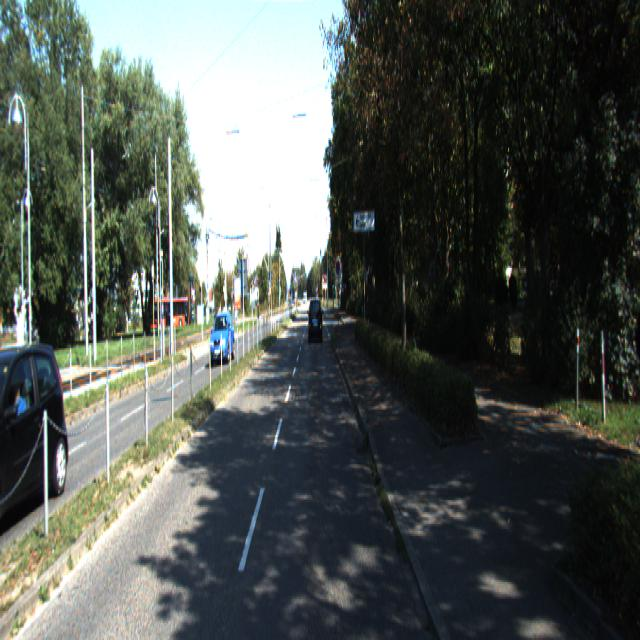Car: (0, 342, 74, 539), (0, 344, 66, 487), (210, 312, 236, 364), (309, 298, 323, 346)
